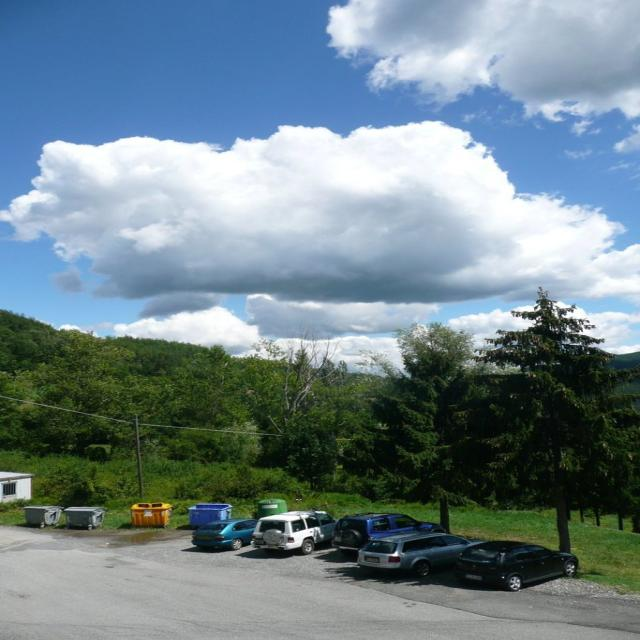car: (431, 534, 579, 588)
